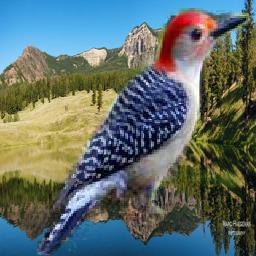Woodpecker: (37, 9, 249, 256)
